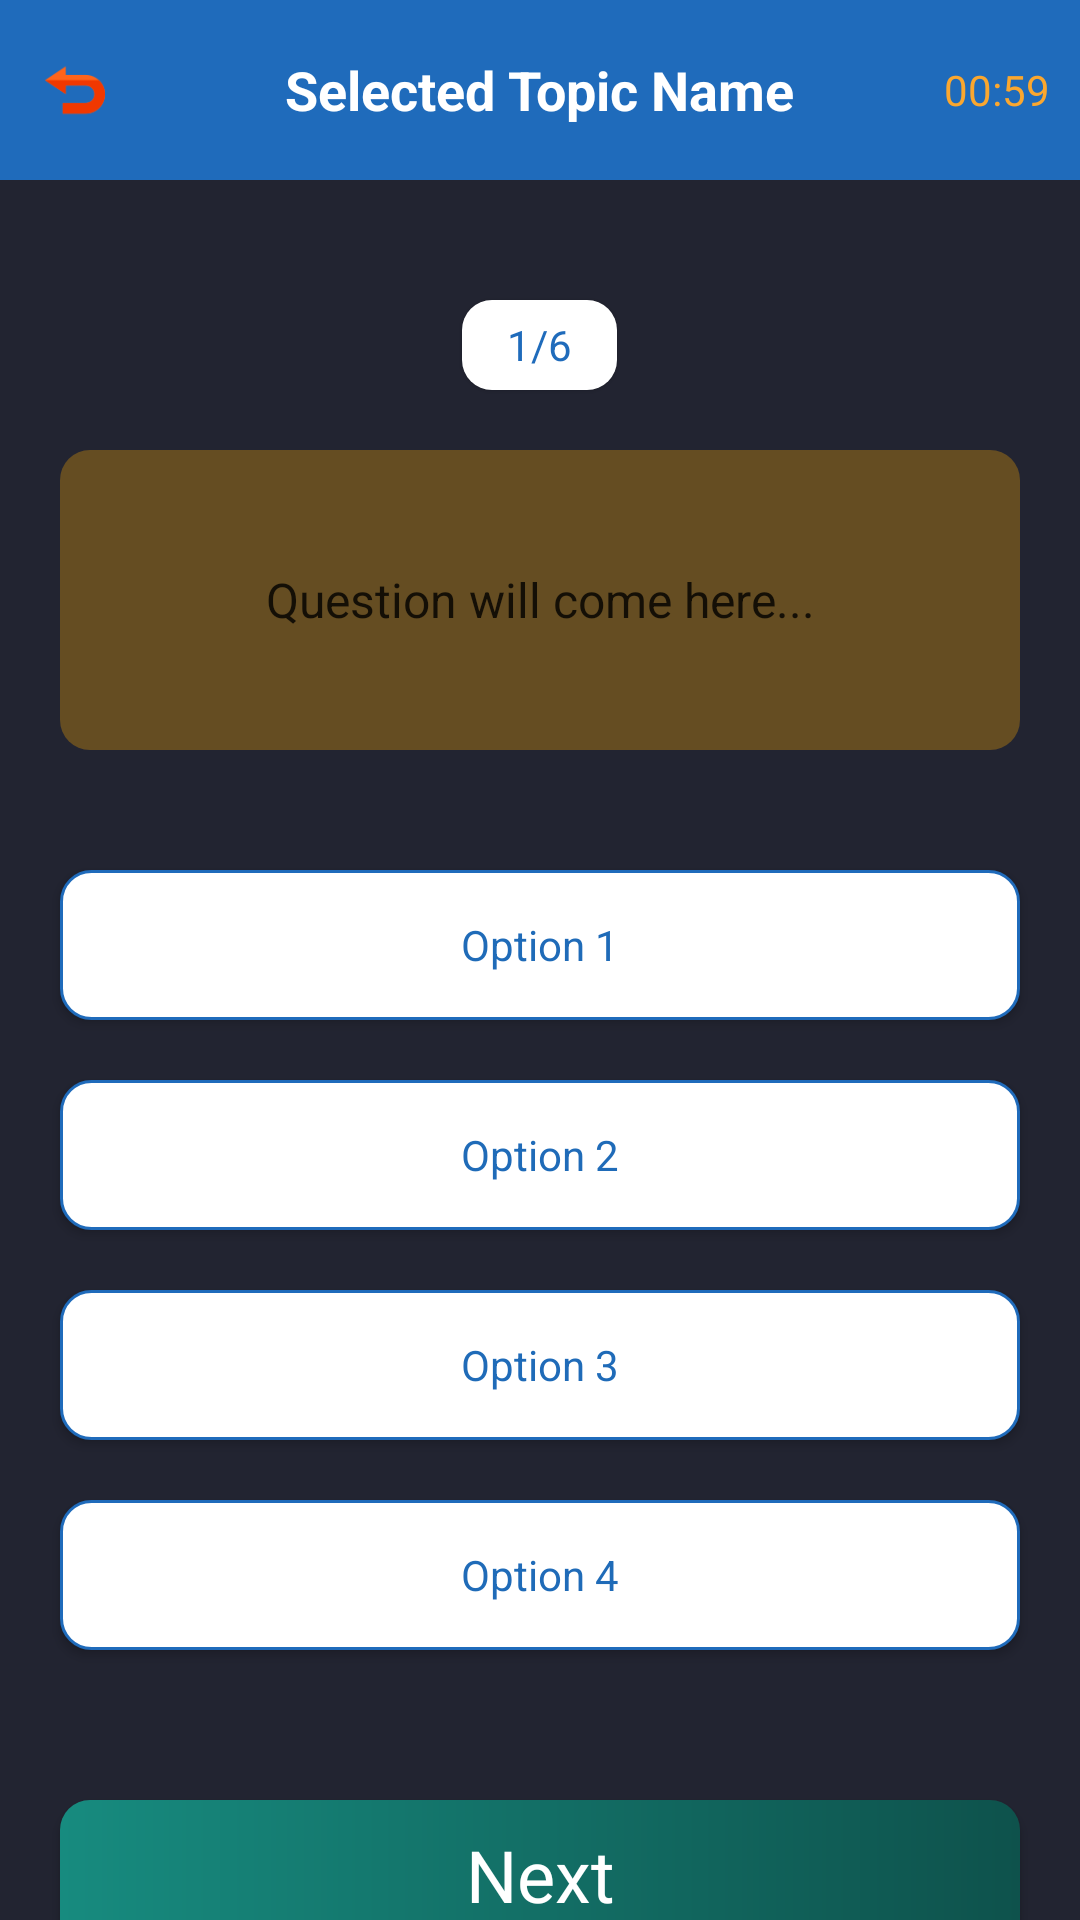

Screen size 1080×1920. Icon name, then its center in pixels as point (x, y):
backquiz: point (75, 90)
